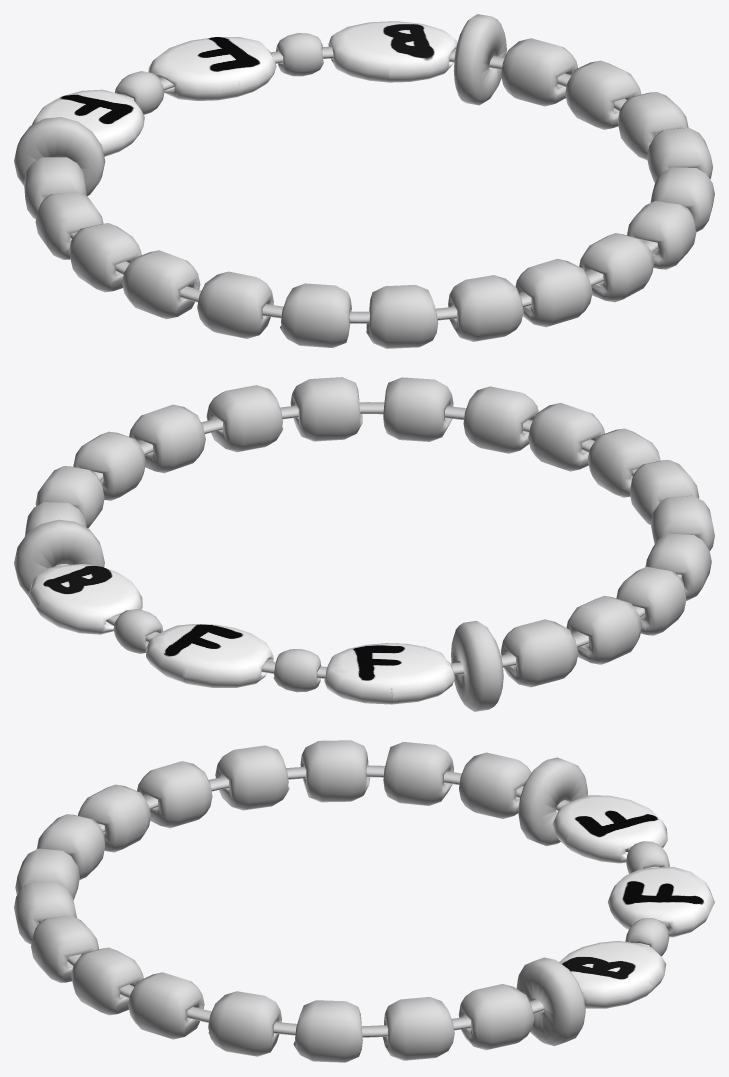
Rendered from bracelet.fbx.
3 views of the same model, one above another, from view 1: azimuth 30°, elevation 25°; view 2: azimuth 150°, elevation 25°; view 3: azimuth 270°, elevation 25° (orthographic). The views are drawn at different scales.
Parts seen in each view (by area): view 1: B F F, B F F.001, bead_16, bead_13, B F F.002, bead_15, bead_14, bead_12, bead_1, right_boarder_bead, bead_8, left_boarder_bead (+12 smaller); view 2: B F F.002, B F F.001, B F F, bead_9, bead_4, bead_3, bead_2, left_boarder_bead, bead_1, right_boarder_bead, bead_10, bead_16 (+12 smaller); view 3: B F F.002, B F F.001, B F F, left_boarder_bead, bead_7, bead_5, bead_8, right_boarder_bead, bead_6, bead_4, bead_12, bead_11 (+12 smaller).
Part boxes in pixels (<box>): B F F: <box>328,21,457,82</box>; B F F.001: <box>148,37,276,100</box>; bead_16: <box>448,275,523,341</box>; bead_13: <box>197,271,273,338</box>; B F F.002: <box>32,89,144,156</box>; bead_15: <box>366,284,438,348</box>; bead_14: <box>280,283,351,347</box>; bead_12: <box>122,250,200,319</box>; bead_1: <box>515,258,592,327</box>; right_boarder_bead: <box>14,117,105,196</box>; bead_8: <box>501,38,577,106</box>; left_boarder_bead: <box>453,14,506,105</box>; B F F.002: <box>324,643,455,704</box>; B F F.001: <box>145,624,273,687</box>; B F F: <box>28,564,142,634</box>; bead_9: <box>501,619,578,687</box>; bead_4: <box>206,385,283,452</box>; bead_3: <box>290,377,362,441</box>; bead_2: <box>383,377,453,441</box>; left_boarder_bead: <box>14,519,104,596</box>; bead_1: <box>463,386,538,453</box>; right_boarder_bead: <box>451,621,503,711</box>; bead_10: <box>566,595,641,664</box>; bead_16: <box>528,403,604,471</box>; B F F.002: <box>552,795,667,863</box>; B F F.001: <box>608,867,714,937</box>; B F F: <box>559,941,666,1008</box>; left_boarder_bead: <box>516,957,585,1046</box>; bead_7: <box>383,997,454,1060</box>; bead_5: <box>208,991,281,1056</box>; bead_8: <box>458,984,534,1050</box>; right_boarder_bead: <box>518,757,587,845</box>; bead_6: <box>293,1000,362,1062</box>; bead_4: <box>128,972,204,1039</box>; bead_12: <box>215,745,289,810</box>; bead_11: <box>300,740,370,802</box>.
Size of the model in its own units: 3592 by 468 by 3713.
1 material, 1 textured.
